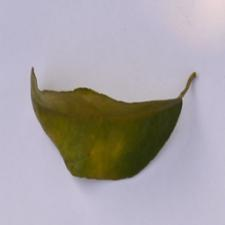Greening: (24, 66, 183, 190)
